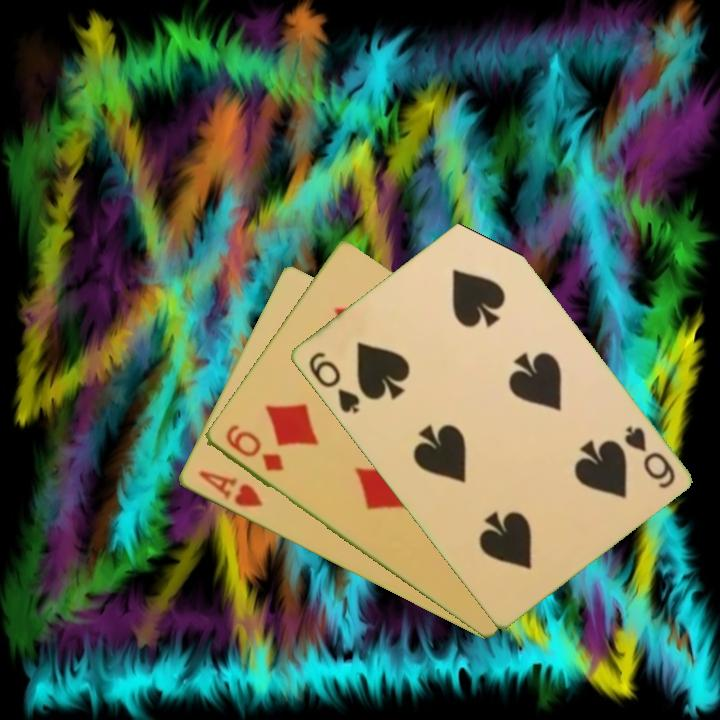6d: (221, 421, 287, 475)
6s: (304, 348, 363, 417), (620, 422, 678, 492)
Ah: (195, 467, 266, 511)
